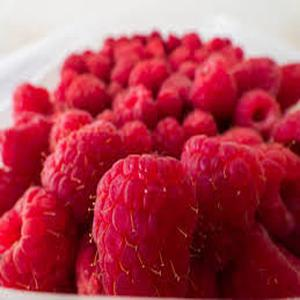raspb: (50, 56, 300, 300)
